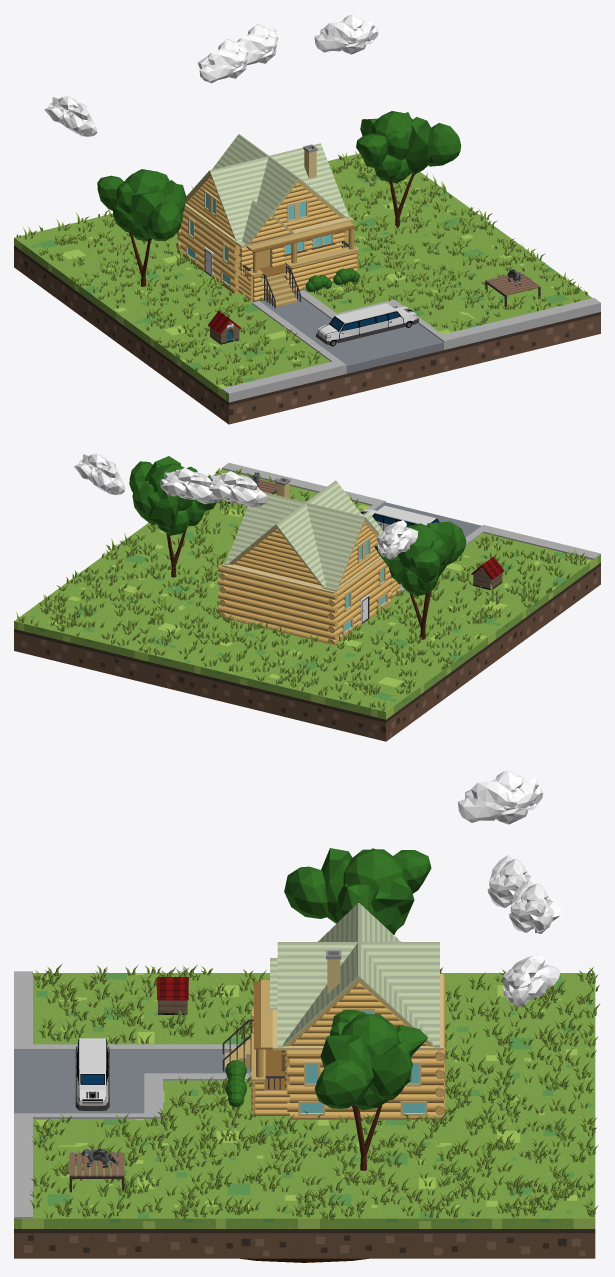
3 renders of one model, top to bottom at view 1: azimuth 30°, elevation 25°; view 2: azimuth 150°, elevation 25°; view 3: azimuth 270°, elevation 25°, orthographic. The views are drawn at different scales.
Parts seen in each view (by area): view 1: Cube.006, Cube.1516, Circle.012_Grass_0.192, Cube.007, tree, tree.001, VEHICLES_LIMOUSINE, Cube.009, OBJRANDOM_DOGHOUSE; view 2: Cube.006, Cube.1516, Circle.012_Grass_0.192, Cube.007, tree.001, tree, VEHICLES_LIMOUSINE, OBJRANDOM_DOGHOUSE; view 3: Cube.006, Circle.012_Grass_0.192, Cube.1516, tree, Cube.007, tree.001, VEHICLES_LIMOUSINE, Cube.009, OBJRANDOM_DOGHOUSE.
Part boxes in pixels (x1=…): Cube.006: x1=14, y1=153, x2=600, y2=424; Cube.1516: x1=176, y1=134, x2=359, y2=308; Circle.012_Grass_0.192: x1=16, y1=151, x2=587, y2=386; Cube.007: x1=44, y1=14, x2=378, y2=136; tree: x1=356, y1=111, x2=460, y2=228; tree.001: x1=97, y1=169, x2=186, y2=286; VEHICLES_LIMOUSINE: x1=316, y1=303, x2=418, y2=346; Cube.009: x1=485, y1=272, x2=540, y2=306; OBJRANDOM_DOGHOUSE: x1=208, y1=311, x2=241, y2=344; Cube.006: x1=14, y1=463, x2=600, y2=741; Cube.1516: x1=218, y1=477, x2=400, y2=644; Circle.012_Grass_0.192: x1=16, y1=468, x2=587, y2=711; Cube.007: x1=74, y1=453, x2=418, y2=559; tree.001: x1=374, y1=521, x2=466, y2=639; tree: x1=129, y1=456, x2=216, y2=577; VEHICLES_LIMOUSINE: x1=361, y1=505, x2=439, y2=530; OBJRANDOM_DOGHOUSE: x1=471, y1=557, x2=504, y2=589; Cube.006: x1=14, y1=971, x2=595, y2=1258; Circle.012_Grass_0.192: x1=29, y1=963, x2=600, y2=1219; Cube.1516: x1=222, y1=903, x2=445, y2=1119; tree: x1=314, y1=1010, x2=427, y2=1170; Cube.007: x1=457, y1=770, x2=560, y2=1006; tree.001: x1=284, y1=848, x2=431, y2=934; VEHICLES_LIMOUSINE: x1=75, y1=1038, x2=109, y2=1110; Cube.009: x1=69, y1=1152, x2=124, y2=1192; OBJRANDOM_DOGHOUSE: x1=156, y1=977, x2=188, y2=1014.
Size of the model in its own units: 4071 by 2242 by 4040.
Materials: 43 (4 with a texture image).
